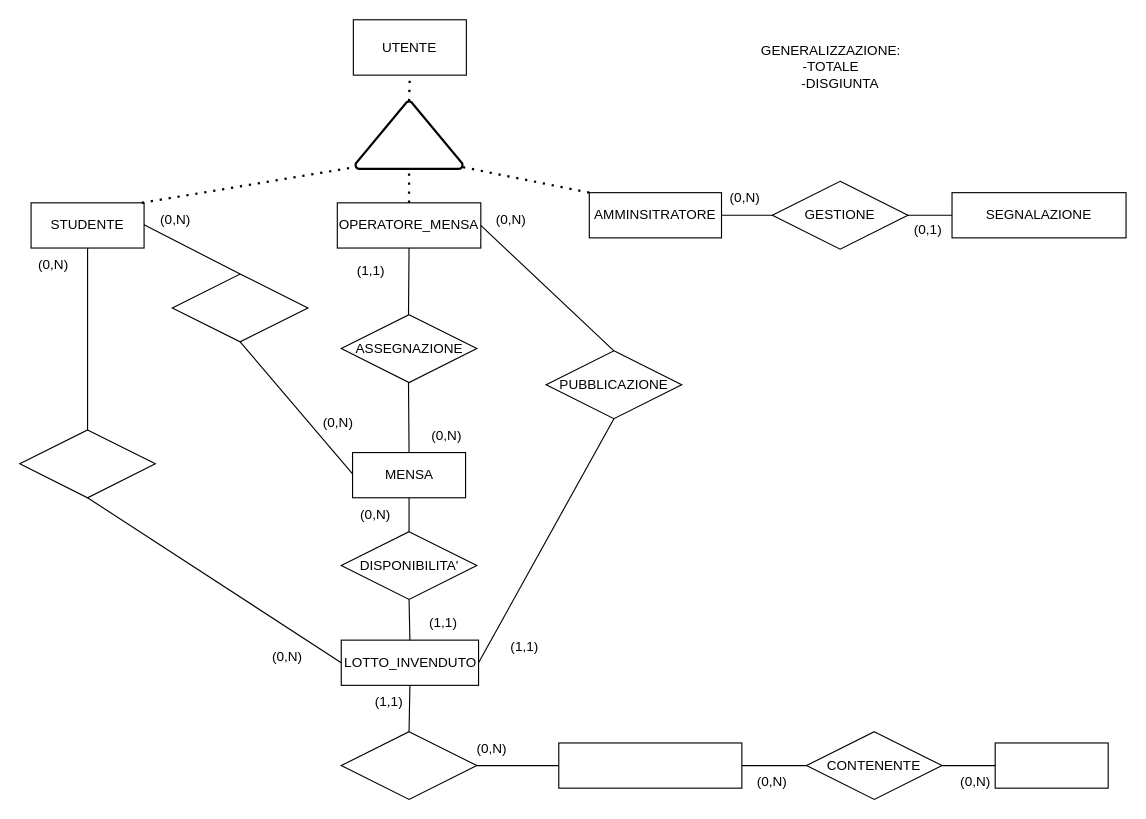
Image size: 1146x819. Some labels were removed from this diagram. The centre of each missing label's shape, as x and y in pixels:
"ALLERGENE" goes at point 1051,765.
"COMPOSIZIONE" goes at point 408,765.
"ISA" goes at point 408,134.
"PRENOTAZIONE" goes at point 87,463.
"PRODOTTO_ALIMENTARE" goes at point 650,765.
"RECENSIONE" goes at point 239,307.
